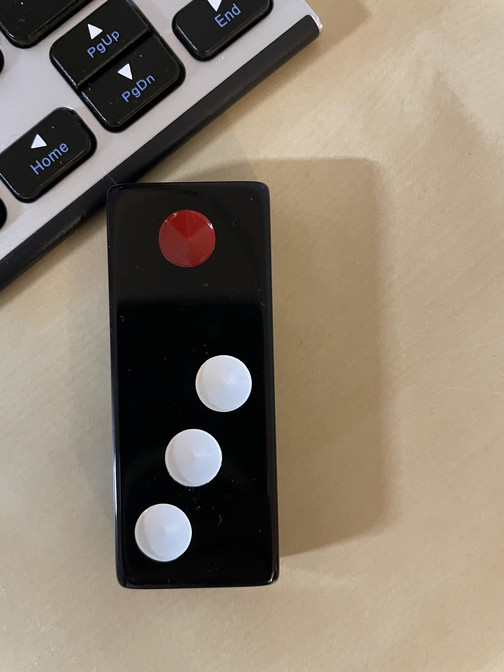goose: (107, 184, 280, 590)
